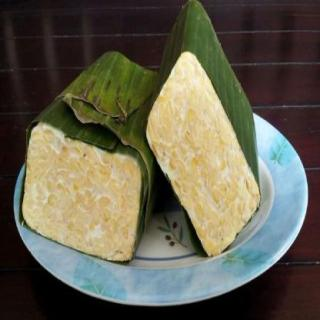Tempe: (17, 118, 146, 267)
